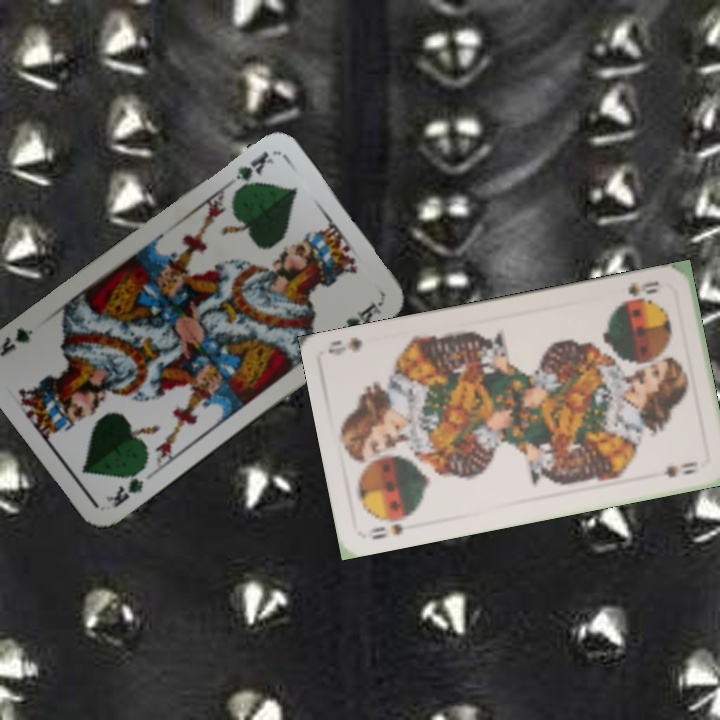GK: (225, 147, 277, 194), (101, 463, 148, 510)
SO: (362, 519, 406, 542), (624, 277, 662, 299)
